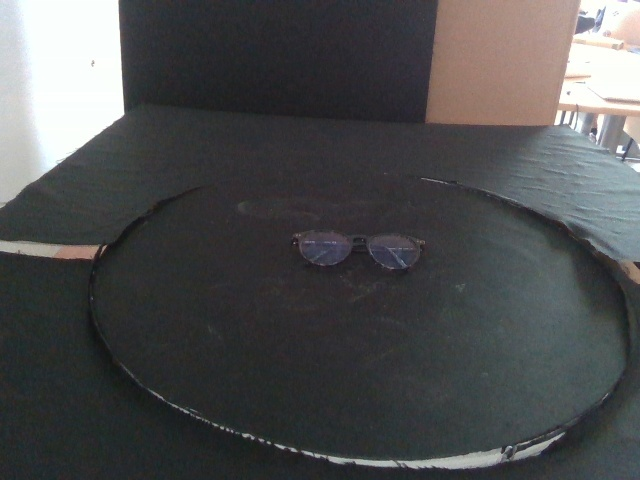glasses: (291, 227, 426, 273)
